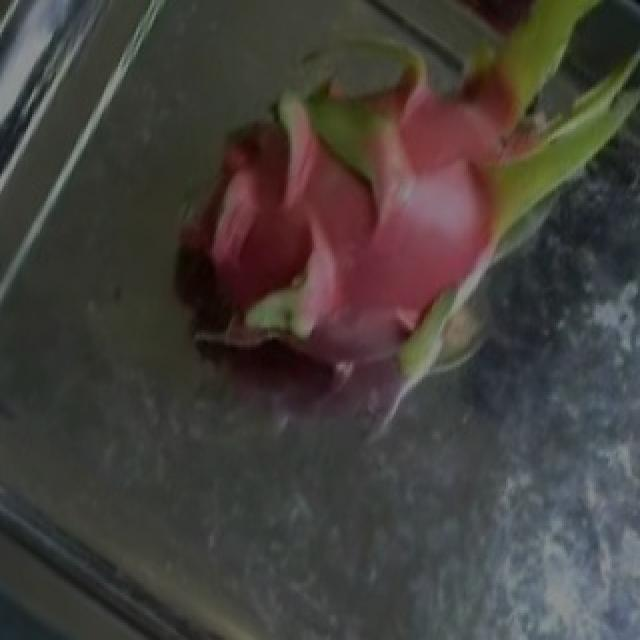fruit: (228, 2, 640, 426)
